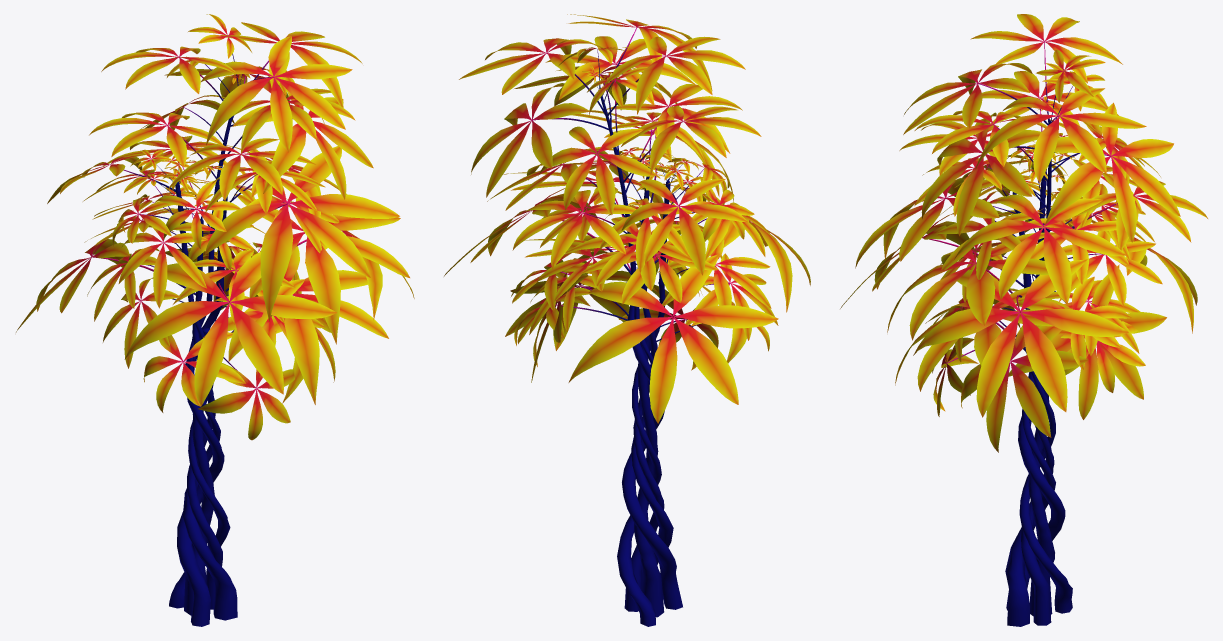
File: Guiana chestnut01.fbx
The picture shows the model from 3 angles, left to right: view 1: azimuth 30°, elevation 25°; view 2: azimuth 150°, elevation 25°; view 3: azimuth 270°, elevation 25°; orthographic projection.
Parts seen in each view (by area): view 1: Guiana chestnut01; view 2: Guiana chestnut01; view 3: Guiana chestnut01.
Boxes of the visible parts, box(x1,y1,x2,y2) form: Guiana chestnut01: box(16, 14, 414, 626); Guiana chestnut01: box(444, 14, 810, 626); Guiana chestnut01: box(840, 14, 1207, 626).
Bounding box in the file's own units: 811 × 1335 × 779.
